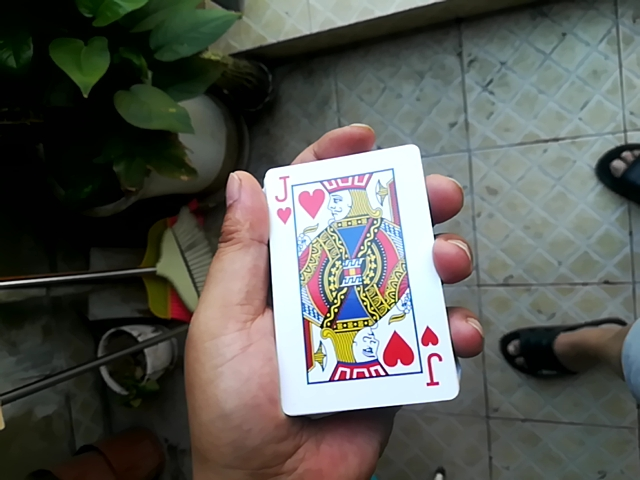hx j: (256, 143, 463, 411)
